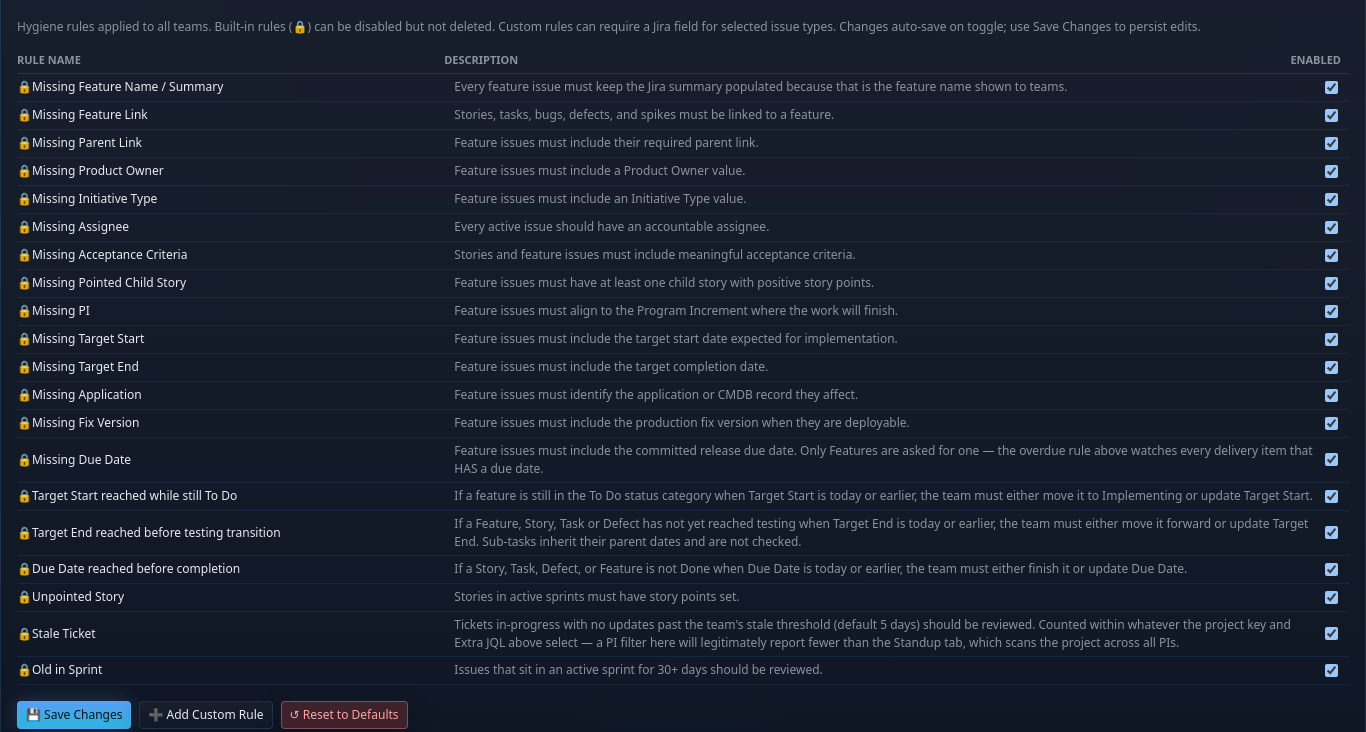
it: EnterpriseStandardsPanel › opens the add-rule form when Add Custom Rule is clicked
Click the button "➕ Add Custom Rule" at [206, 714], box 139,700 -> 272,728
(page scrolled)
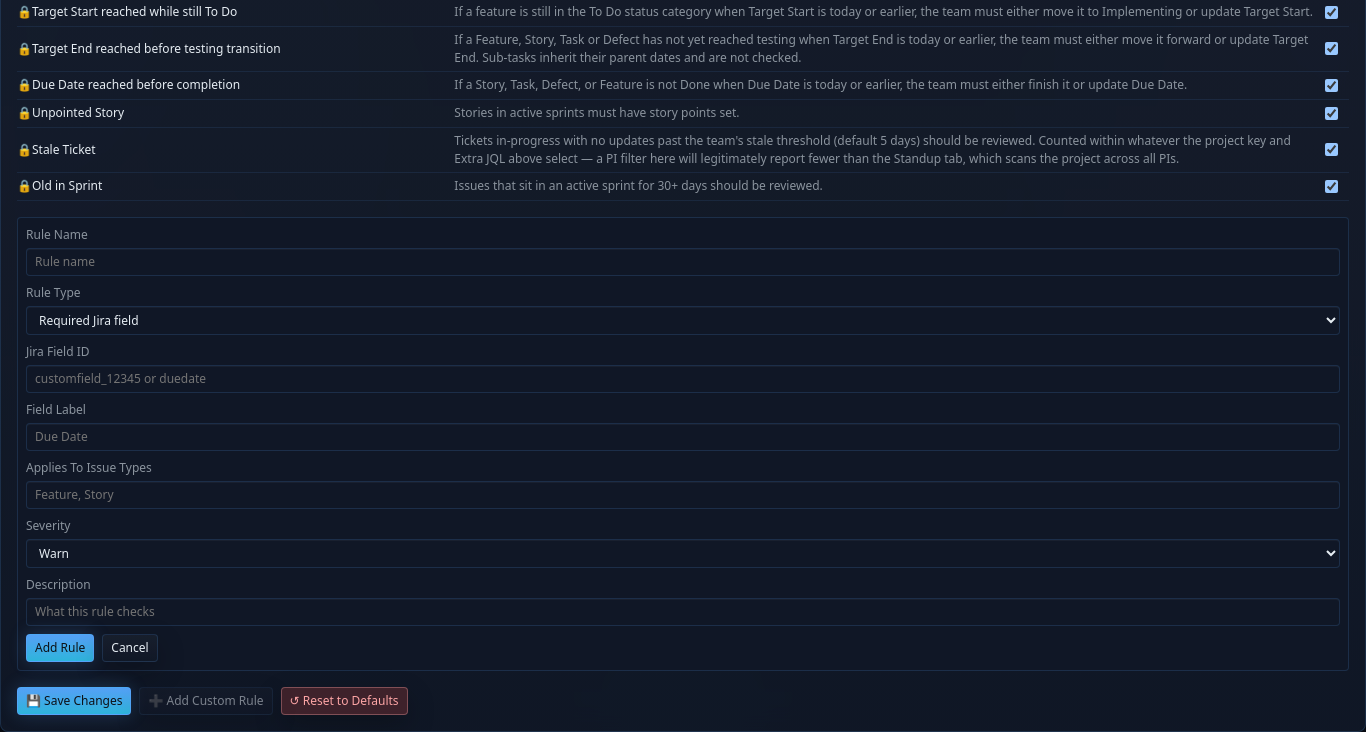
Now the field labelled "Rule Name" is shown, box 26,248 -> 1340,276
Now the field labelled "Jira Field ID" is shown, box 26,364 -> 1340,392
Now the field labelled "Description" is shown, box 26,598 -> 1340,626
